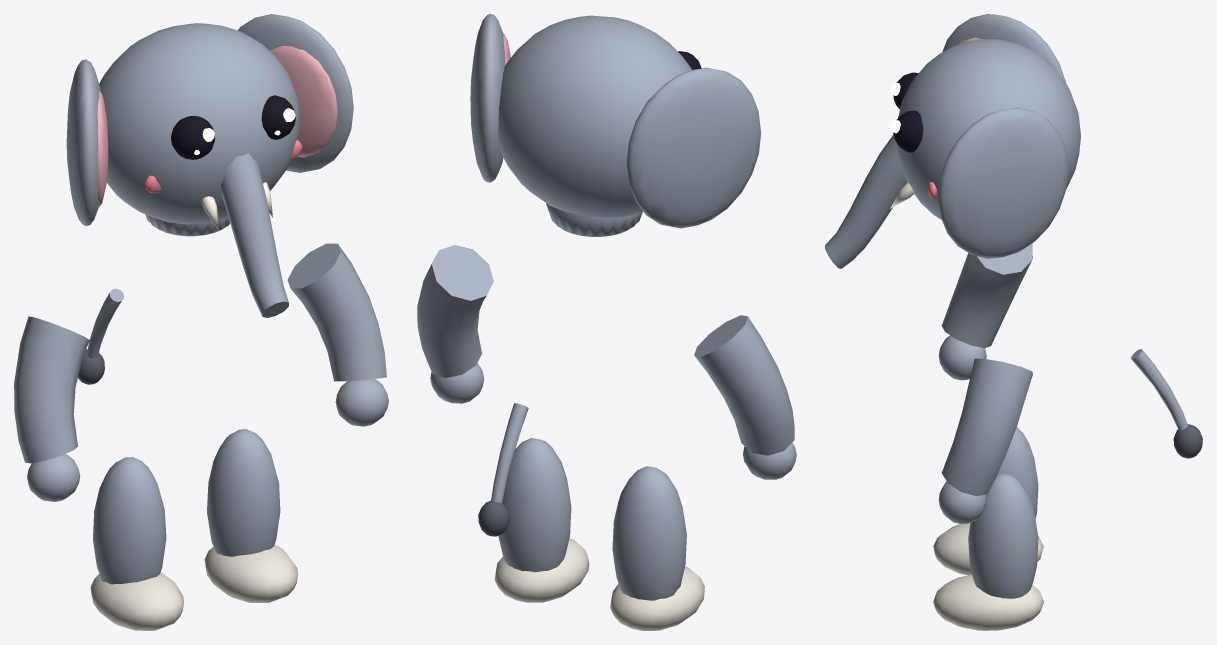
File: tb_dyr_elefant.glb
3 views of the same model, side by side, from view 1: azimuth 30°, elevation 25°; view 2: azimuth 150°, elevation 25°; view 3: azimuth 270°, elevation 25° (orthographic). The views are drawn at different scales.
Parts seen in each view (by area): view 1: hode, bein_vf, bein_hf, vinge_h, vinge_v, hale; view 2: hode, bein_vf, bein_hf, vinge_v, vinge_h, hale; view 3: hode, bein_hf, vinge_h, vinge_v, bein_vf, hale.
Boxes of the visible parts, <box> form: hode: <box>66,14,353,317</box>; bein_vf: <box>90,457,183,630</box>; bein_hf: <box>204,429,298,602</box>; vinge_h: <box>287,243,388,426</box>; vinge_v: <box>14,316,89,501</box>; hale: <box>78,288,123,384</box>; hode: <box>470,14,761,236</box>; bein_vf: <box>610,466,704,630</box>; bein_hf: <box>494,438,589,602</box>; vinge_v: <box>694,315,796,479</box>; vinge_h: <box>417,245,493,403</box>; hale: <box>478,403,528,536</box>; hode: <box>825,14,1080,268</box>; bein_hf: <box>933,473,1043,630</box>; vinge_h: <box>938,358,1032,524</box>; vinge_v: <box>938,243,1032,380</box>; bein_vf: <box>933,427,1043,575</box>; hale: <box>1131,349,1202,458</box>.
Bounding box in the file's own units: 1.07 × 1.64 × 1.02.
